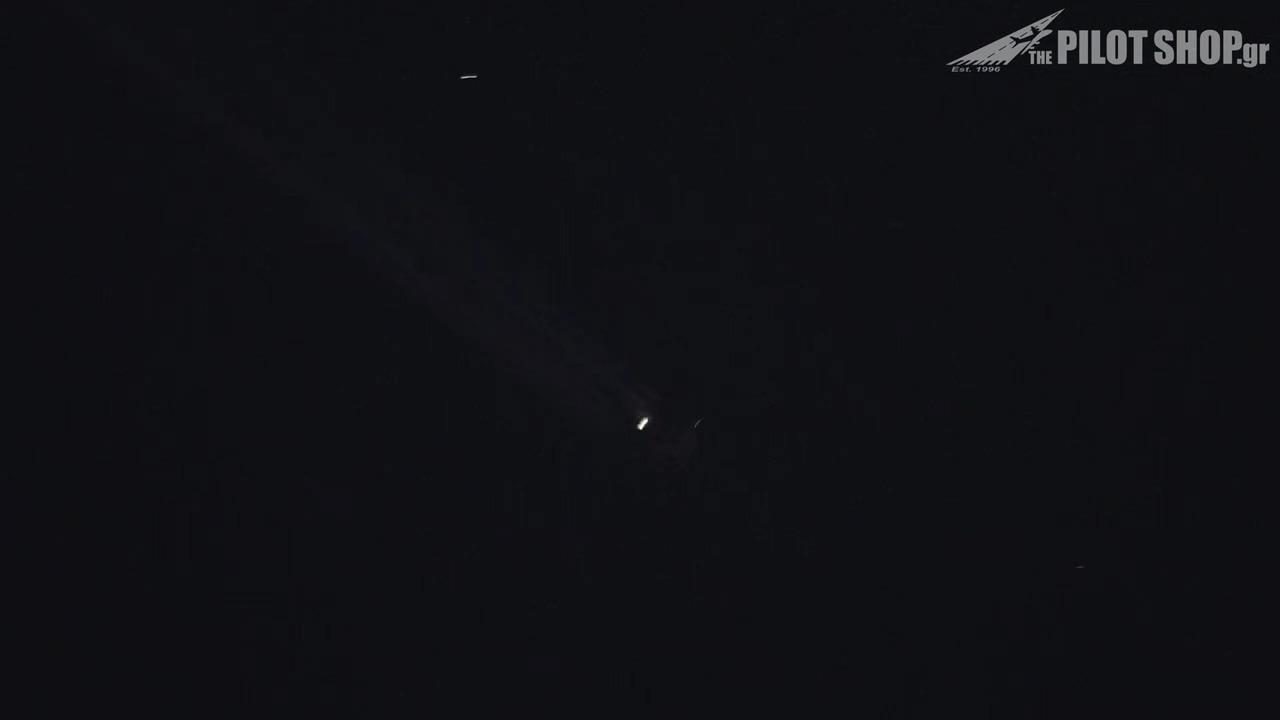Plane: (580, 349, 724, 475)
